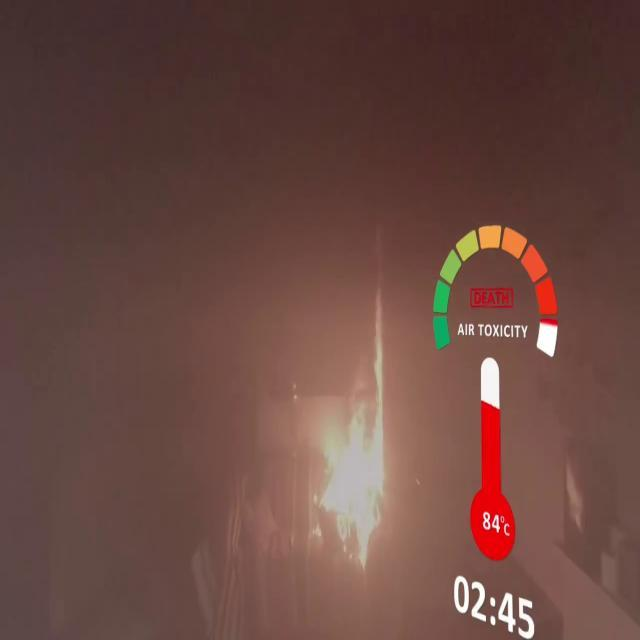Fire: (288, 263, 408, 568)
Smoke: (0, 0, 281, 640), (129, 13, 456, 223), (458, 2, 640, 242), (560, 245, 640, 640)
